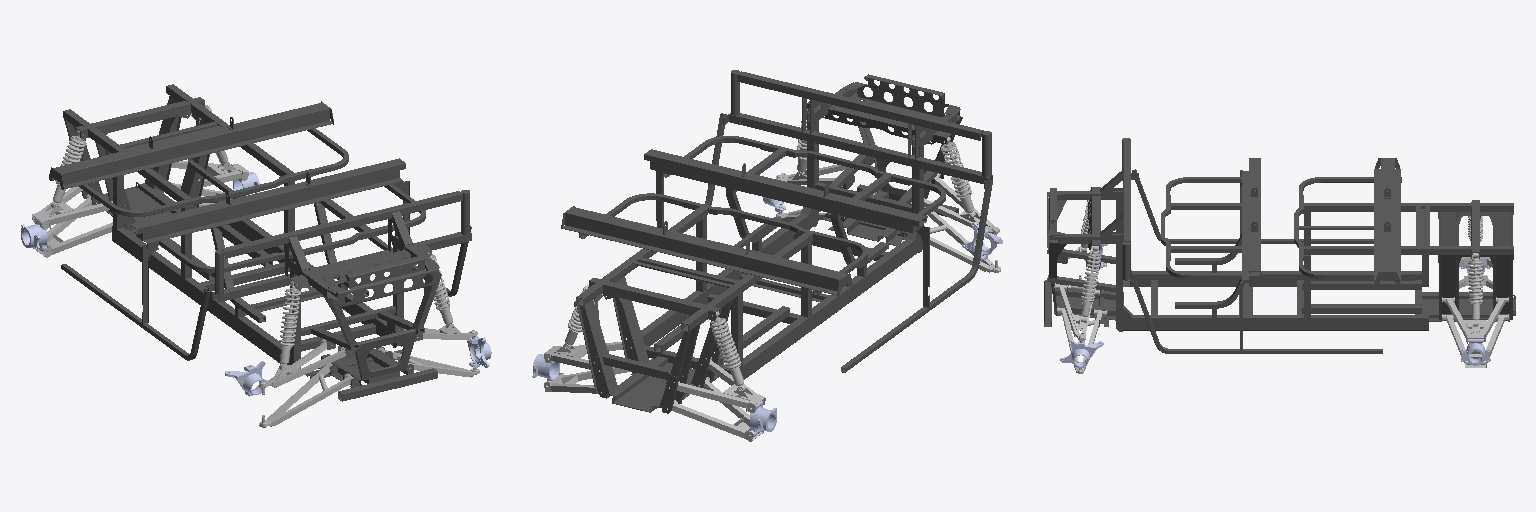
--- Render facts (derived) ---
The picture shows the robot from 3 angles, left to right: view 1: azimuth 30°, elevation 25°; view 2: azimuth 150°, elevation 25°; view 3: azimuth 270°, elevation 25°; orthographic projection.
Robot: panter — 21 links, 20 joints (20 revolute); root link CH; default pose: every joint at zero.
Links seen in each view (by area): view 1: CH, SD03_DCH, SD02_DCH, ST02_DCH, ST03_DCH, SD01_DCH, ST02_IZQ, SD03_IZQ, MGD_DCH, ST01_DCH, MGT_DCH, MGD_IZQ (+2 smaller); view 2: CH, ST02_DCH, ST03_DCH, ST01_DCH, SD03_DCH, ST02_IZQ, ST03_IZQ, SD01_DCH, SD02_DCH, MGT_DCH, SD02_IZQ; view 3: CH, ST02_IZQ, ST01_IZQ, SD01_IZQ, ST03_IZQ, SD02_IZQ, MGD_IZQ, SD03_IZQ.
Boxes of the visible links, <box> form: CH: <box>49,84,471,401</box>; SD03_DCH: <box>259,363,355,427</box>; SD02_DCH: <box>259,339,351,394</box>; ST02_DCH: <box>32,182,125,229</box>; ST03_DCH: <box>33,194,128,257</box>; SD01_DCH: <box>279,281,300,369</box>; ST02_IZQ: <box>163,161,248,188</box>; SD03_IZQ: <box>378,347,479,377</box>; MGD_DCH: <box>225,361,268,396</box>; ST01_DCH: <box>51,130,86,208</box>; MGT_DCH: <box>21,218,47,252</box>; MGD_IZQ: <box>467,336,491,367</box>; CH: <box>561,70,992,413</box>; ST02_DCH: <box>669,357,765,412</box>; ST03_DCH: <box>667,377,763,441</box>; ST01_DCH: <box>710,311,745,391</box>; SD03_DCH: <box>924,207,1000,272</box>; ST02_IZQ: <box>544,342,631,371</box>; ST03_IZQ: <box>544,367,630,393</box>; SD01_DCH: <box>941,137,975,217</box>; SD02_DCH: <box>911,173,999,235</box>; MGT_DCH: <box>749,401,776,436</box>; SD02_IZQ: <box>776,165,846,186</box>; CH: <box>1044,138,1515,353</box>; ST02_IZQ: <box>1442,297,1508,343</box>; ST01_IZQ: <box>1468,253,1482,326</box>; SD01_IZQ: <box>1081,246,1101,322</box>; ST03_IZQ: <box>1442,314,1508,367</box>; SD02_IZQ: <box>1054,283,1099,342</box>; MGD_IZQ: <box>1060,340,1103,367</box>; SD03_IZQ: <box>1057,307,1106,373</box>.
Bounding box of the posed robot: 1.5 × 2.62 × 0.8512 m (x, y, z).
17 mesh visuals loaded from 21 distinct referenced files (17 binary STL); not drawn: 4 (reference not matched to a file when rendering).

URDF robot description (panter):
<?xml version="1.0" encoding="utf-8"?>

<robot name="panter">

<!-- <robot xmlns:xacro="http://www.ros.org/wiki/xacro" name="panter"> -->

<!-- CHASIS -->

  <link name="CH">
    <inertial>
      <!-- <origin
        xyz="0 -0.44 0.675"
        rpy="0 0 0" /> -->
      <origin
        xyz="0.039 -0.49763 0.675"
        rpy="0 0 0" />
      <mass
        value="700.85" />
      <inertia
        ixx="431.0183"
        ixy="0"
        ixz="0"
        iyy="161.5181"
        iyz="0"
        izz="532.3189" />
    </inertial>
    <visual>
      <origin
        xyz="0 0 0"
        rpy="0 0 0" />
      <geometry>
        <mesh
          filename="package://description_pkg/meshes/CH.STL" />
      </geometry>
      <material
        name="Chasis">
        <color
          rgba="0.4 0.4 0.4 1" />
      </material>
    </visual>
    <collision>
      <origin
        xyz="0 -0.44 0.675"
        rpy="0 0 0" />
      <geometry>
        <box size="1.5 2.62 0.718"/>
      </geometry>
    </collision>
  </link>

<!--        #### EJE DELANTERO IZQUIERDA ####        -->

<!-- AMORTIGUADOR DELANTERO IZQUIERDO -->

  <link name="SD01_IZQ">
    <inertial>
      <origin
        xyz="0.023095387698854 0.0466016681758654 -0.187519014527032"
        rpy="-1.3265 -0.1571 0" />
      <mass
        value="3.75" />
      <inertia
        ixx="0.0513"
        ixy="0"
        ixz="0"
        iyy="0.0016"
        iyz="0"
        izz="0.0513" />
    </inertial>
    <visual>
      <origin
        xyz="0 0 0"
        rpy="0 0 0" />
      <geometry>
        <mesh
          filename="package://description_pkg/meshes/SD01_IZQ.STL" />
      </geometry>
      <material
        name="">
        <color
          rgba="0.752941176470588 0.752941176470588 0.752941176470588 1" />
      </material>
    </visual>
    <!-- <collision>
      <origin
        xyz="0 0 0"
        rpy="0 0 0" />
      <geometry>
        <mesh
          filename="package://description_pkg/meshes/SD01_IZQ.STL" />
      </geometry>
    </collision> -->
  </link>

  <joint  name="SD01_IZQ_CH_joint" type="revolute">
    <origin
      xyz="0.364 -1.4598 0.85354"
      rpy="0 0 -1.5708" />
    <parent
      link="CH" />
    <child
      link="SD01_IZQ" />
    <axis
      xyz="1 0 0" />
    <limit
      lower="0"
      upper="0"
      effort="0"
      velocity="0" />
  </joint>

<!-- BRAZO SUPERIOR DELANTERO IZQUIERDO -->

  <link name="SD02_IZQ">
    <inertial>
      <origin
        xyz="-0.109382785064343 0.00538487709498259 -0.0166938186536861"
        rpy="0 0.3142 1.6930" />
      <mass
        value="2.75" />
      <inertia
        ixx="0.0045"
        ixy="0"
        ixz="0"
        iyy="0.0591"
        iyz="0"
        izz="0.0625" />
    </inertial>
    <visual>
      <origin
        xyz="0 0 0"
        rpy="0 0 0" />
      <geometry>
        <mesh
          filename="package://description_pkg/meshes/SD02_IZQ.STL" />
      </geometry>
      <material
        name="">
        <color
          rgba="0.752941176470588 0.752941176470588 0.752941176470588 1" />
      </material>
    </visual>
    <!-- <collision>
      <origin
        xyz="0 0 0"
        rpy="0 0 0" />
      <geometry>
        <mesh
          filename="package://description_pkg/meshes/SD02_IZQ.STL" />
      </geometry>
    </collision> -->
  </link>

  <joint name="SD02_IZQ_CH_joint" type="revolute">
    <origin
      xyz="0.1865 -1.6482 0.53091"
      rpy="0 0 -1.5708" />
    <parent
      link="CH" />
    <child
      link="SD02_IZQ" />
    <axis
      xyz="1 0 0" />
    <limit effort="1.0" velocity="5.0" lower="-0.02" upper="0.02"/>
  </joint>

<!-- BRAZO INFERIOR DELANTERO IZQUIERDO -->

  <link name="SD03_IZQ">
    <inertial>
      <origin
        xyz="-0.0973675515390373 0.158067753699 -0.0696606835141533"
        rpy="0 0.4363 1.6930" />
      <mass
        value="2.55" />
      <inertia
        ixx="0.0064"
        ixy="0"
        ixz="0"
        iyy="0.0574"
        iyz="0"
        izz="0.0630" />
    </inertial>
    <visual>
      <origin
        xyz="0 0 0"
        rpy="0 0 0" />
      <geometry>
        <mesh
          filename="package://description_pkg/meshes/SD03_IZQ.STL" />
      </geometry>
      <material
        name="">
        <color
          rgba="0.752941176470588 0.752941176470588 0.752941176470588 1" />
      </material>
    </visual>
    <collision>
      <origin
        xyz="0 0 0"
        rpy="0 0 0" />
      <geometry>
        <mesh
          filename="package://description_pkg/meshes/SD03_IZQ.STL" />
      </geometry>
    </collision>
  </link>

  <joint name="SD03_IZQ_CH_joint" type="revolute">
    <origin
      xyz="0.151 -1.6306 0.37054"
      rpy="0 0 -1.5708" />
    <parent
      link="CH" />
    <child
      link="SD03_IZQ" />
    <axis
      xyz="0.99756 0 0.069756" />
    <limit effort="1.0" velocity="5.0" lower="-0" upper="0"/>
  </joint>

<!-- MANGUETA DELANTERA IZQUIERDA -->

  <link name="MGD_IZQ">
    <inertial>
      <origin
        xyz="-0.0855932268768944 0.00173893668665892 -0.0563643457848181"
        rpy="0 0 0" />
      <mass
        value="0.657785044151253" />
      <inertia
        ixx="0.00160628936815674"
        ixy="-6.87964117180997E-06"
        ixz="-2.77497675092375E-05"
        iyy="0.000818666431242726"
        iyz="-0.000112075156886058"
        izz="0.00115594236415573" />
    </inertial>
    <visual>
      <origin
        xyz="0 0 0"
        rpy="0 0 0" />
      <geometry>
        <mesh
          filename="package://description_pkg/meshes/MGD_IZQ.STL" />
      </geometry>
      <material
        name="">
        <color
          rgba="0.792156862745098 0.819607843137255 0.933333333333333 1" />
      </material>
    </visual>
    <!-- <collision>
      <origin
        xyz="0 0 0"
        rpy="0 0 0" />
      <geometry>
        <mesh
          filename="package://description_pkg/meshes/MGD_IZQ.STL" />
      </geometry>
    </collision> -->
  </link>

  <joint name="MGD_IZQ_joint" type="revolute">
    <origin
      xyz="-0.1154 0.39602 -0.15378"
      rpy="0 0 1.5708" />
    <parent
      link="SD02_IZQ" />
    <child
      link="MGD_IZQ" />
    <axis
      xyz="0 0 1" />
    <limit effort="50.0" velocity="1.0" lower="-0.5236" upper="0.5236"/>
    <!-- <dynamics damping="100.0" friction="50.0"/> -->
  </joint>

<!-- RUEDA DELANTERA IZQUIERDA -->

  <link name="ED_IZQ">
    <inertial>
      <origin
        xyz="8.85917361692634E-09 0.0150314381656788 0.00122958365489734"
        rpy="0 0 0" />
      <mass
        value="20.75" />
      <inertia
        ixx="0.7018"
        ixy="0"
        ixz="0"
        iyy="1.2206"
        iyz="0"
        izz="0.7018" />
    </inertial>
    <visual>
      <origin
        xyz="0 0 0"
        rpy="1.5708 0 0" />
      <geometry>
        <mesh
          filename="package://description_pkg/meshes/ED_IZQ.STL" />
      </geometry>
      <material
        name="Rueda">
        <color
          rgba="0.1 0.1 0.1 1" />
      </material>
    </visual>
    <collision>
      <origin
        xyz="0 0.0075 0"
        rpy="0 1.5707 1.5707" />
      <geometry>
        <cylinder radius="0.343" length="0.23"/>
      </geometry>
      <surface>
        <friction>
          <ode>
            <mu>5.0</mu>
            <mu2>5.0</mu2>
          </ode>
        </friction>
      </surface>
    </collision>
    <!-- <collision>
      <origin
        xyz="0 0 0"
        rpy="1.5708 0 0" />
      <geometry>
        <mesh
          filename="package://description_pkg/meshes/ED_IZQ.STL" />
      </geometry>
    </collision> -->
  </link>

  <joint name="ED_IZQ_joint" type="revolute">
    <origin
      xyz="0.12485 -0.0032345 -0.085073"
      rpy="0 0 -1.5708" />
    <parent
      link="MGD_IZQ" />
    <child
      link="ED_IZQ" />
    <axis
      xyz="0 1 0" />
    <limit effort="500.0" velocity="15.0" lower="-9999" upper="9999"/> <!-- esfuerzo máximo y velocidad angular -->
    <dynamics damping="2.5" friction="1.5"/> <!-- retardo y frenado natural -->
  </joint>

  <gazebo reference="ED_IZQ">
    <mu1>1.5</mu1>
    <mu2>1.5</mu2>
    <surface>
      <friction>
        <ode>
          <mu>1.5</mu>
          <mu2>1.5</mu2>
          <slip1>0.1</slip1>
          <slip2>0.1</slip2>
        </ode>
      </friction>
    </surface>
  </gazebo>

  <gazebo reference="ED_IZQ_joint">
    <sensor name="force_torque_sensor" type="force_torque">
      <always_on>true</always_on>
      <update_rate>100</update_rate>
      <visualize>true</visualize>
      <topic>/model/panter/ED_IZQ_joint/sensor/force_torque_sensor/force_torque</topic>
      <enable_metrics>true</enable_metrics>
      <pose>0 0 0 0 0 0</pose>
      <force_torque>
        <frame>sensor</frame>
        <measure_direction>child_to_parent</measure_direction>
      </force_torque> 
    </sensor>
  </gazebo>

<!--        #### EJE DELANTERO DERECHA ####        -->

<!-- AMORTIGUADOR DELANTERO DERECHO -->

  <link name="SD01_DCH">
    <inertial>
      <origin
        xyz="0.0230960940307681 -0.0466016638376696 -0.18751886137021"
        rpy="1.3265 -0.1571 0" />
      <mass
        value="3.75" />
      <inertia
        ixx="0.0513"
        ixy="0"
        ixz="0"
        iyy="0.0016"
        iyz="0"
        izz="0.0513" />
    </inertial>
    <visual>
      <origin
        xyz="0 0 0"
        rpy="0 0 0" />
      <geometry>
        <mesh
          filename="package://description_pkg/meshes/SD01_DCH.STL" />
      </geometry>
      <material
        name="">
        <color
          rgba="0.752941176470588 0.752941176470588 0.752941176470588 1" />
      </material>
    </visual>
    <!-- <collision>
      <origin
        xyz="0 0 0"
        rpy="0 0 0" />
      <geometry>
        <mesh
          filename="package://description_pkg/meshes/SD01_DCH.STL" />
      </geometry>
    </collision> -->
  </link>

  <joint name="SD01_DCH_CH_joint" type="revolute">
    <origin
      xyz="-0.364 -1.4598 0.85354"
      rpy="0 0 -1.5708" />
    <parent
      link="CH" />
    <child
      link="SD01_DCH" />
    <axis
      xyz="1 0 0" />
    <limit
      lower="0"
      upper="0"
      effort="0"
      velocity="0" />
  </joint>

<!-- BRAZO SUPERIOR DELANTERO DERECHO         -->

  <link name="SD02_DCH">
    <inertial>
      <origin
        xyz="-0.100708620572387 -0.17880788771794 -0.0713964837824563"
        rpy="0 -0.3142 1.6930" />
      <mass
        value="2.75" />
      <inertia
        ixx="0.0045"
        ixy="0"
        ixz="0"
        iyy="0.0591"
        iyz="0"
        izz="0.0625" />
    </inertial>
    <visual>
      <origin
        xyz="0 0 0"
        rpy="0 0 0" />
      <geometry>
        <mesh
          filename="package://description_pkg/meshes/SD02_DCH.STL" />
      </geometry>
      <material
        name="">
        <color
          rgba="0.752941176470588 0.752941176470588 0.752941176470588 1" />
      </material>
    </visual>
    <!-- <collision>
      <origin
        xyz="0 0 0"
        rpy="0 0 0" />
      <geometry>
        <mesh
          filename="package://description_pkg/meshes/SD02_DCH.STL" />
      </geometry>
    </collision> -->
  </link>

  <joint name="SD02_DCH_CH_joint" type="revolute">
    <origin
      xyz="-0.1865 -1.6482 0.53091"
      rpy="0 0 -1.5708" />
    <parent
      link="CH" />
    <child
      link="SD02_DCH" />
    <axis
      xyz="1 0 0" />
    <limit effort="1.0" velocity="5.0" lower="-0.02" upper="0.02"/>
  </joint>

<!-- BRAZO INFERIOR DELANTERO DERECHO -->

  <link name="SD03_DCH">
    <inertial>
      <origin
        xyz="-0.0979518480958868 -0.169078003137017 -0.0764949350807603"
        rpy="0 -0.4363 1.6930" />
      <mass
        value="2.55" />
      <inertia
        ixx="0.0064"
        ixy="-0"
        ixz="0"
        iyy="0.0574"
        iyz="0.0"
        izz="0.0630" />
    </inertial>
    <visual>
      <origin
        xyz="0 0 0"
        rpy="0 0 0" />
      <geometry>
        <mesh
          filename="package://description_pkg/meshes/SD03_DCH.STL" />
      </geometry>
      <material
        name="">
        <color
          rgba="0.752941176470588 0.752941176470588 0.752941176470588 1" />
      </material>
    </visual>
    <collision>
      <origin
        xyz="0 0 0"
        rpy="0 0 0" />
      <geometry>
        <mesh
          filename="package://description_pkg/meshes/SD03_DCH.STL" />
      </geometry>
    </collision>
  </link>
  
  <joint name="SD03_DCH_CH_joint" type="revolute">
    <origin
      xyz="-0.151 -1.6306 0.37054"
      rpy="0 0 -1.5708" />
    <parent
      link="CH" />
    <child
      link="SD03_DCH" />
    <axis
      xyz="0.99756 0 0.069756" />
    <limit
      lower="0"
      upper="0"
      effort="0"
      velocity="0" />
  </joint>

<!-- MANGUETA DELANTERA DERECHA -->

  <link name="MGD_DCH">
    <inertial>
      <origin
        xyz="-0.0215058691998961 0.00220187613752731 -0.0514181988629917"
        rpy="0 0 0" />
      <mass
        value="0.32878873728313" />
      <inertia
        ixx="0.000807927106157257"
        ixy="1.5159094149856E-05"
        ixz="-2.30270459407509E-05"
        iyy="0.000408973719348148"
        iyz="-5.49889480653895E-05"
        izz="0.00057221553445741" />
    </inertial>
    <visual>
      <origin
        xyz="0 0 0"
        rpy="0 0 0" />
      <geometry>
        <mesh
          filename="package://description_pkg/meshes/MGD_DCH.STL" />
      </geometry>
      <material
        name="">
        <color
          rgba="0.792156862745098 0.819607843137255 0.933333333333333 1" />
      </material>
    </visual>
    <!-- <collision>
      <origin
        xyz="0 0 0"
        rpy="0 0 0" />
      <geometry>
        <mesh
          filename="package://description_pkg/meshes/MGD_DCH.STL" />
      </geometry>
    </collision> -->
  </link>

  <joint name="MGD_DCH_joint" type="revolute">
    <origin
      xyz="-0.11478 -0.3967 -0.16813"
      rpy="0 0 1.5708" />
    <parent
      link="SD02_DCH" />
    <child
      link="MGD_DCH" />
    <axis
      xyz="0 0 1" />
      <limit effort="50" velocity="1.0" lower="-0.5236" upper="0.5236"/>
      <!-- <dynamics damping="100.0" friction="50.0"/> -->
  </joint>

<!-- RUEDA DELANTERA DERECHA -->

  <link name="ED_DCH">
    <inertial>
      <origin
        xyz="2.51975995624321E-10 -0.0151916399599397 0.00147256651074923"
        rpy="0 0 0" />
      <mass
        value="20.75" />
      <inertia
        ixx="0.7018"
        ixy="0"
        ixz="0"
        iyy="1.2206"
        iyz="0"
        izz="0.7018" />
    </inertial>
    <visual>
      <origin
        xyz="0 0 0"
        rpy="1.5708 0 3.1416" />
      <geometry>
        <mesh
          filename="package://description_pkg/meshes/ED_DCH.STL" />
      </geometry>
      <material
        name="Rueda">
        <color
          rgba="0.1 0.1 0.1 1" />
      </material>
    </visual>
    <collision>
      <origin
        xyz="0 -0.0065 0"
        rpy="0 1.5707 1.5707" />
      <geometry>
        <cylinder radius="0.343" length="0.23"/>
      </geometry>
        <surface>
        <friction>
          <ode>
            <mu>5.0</mu>
            <mu2>5.0</mu2>
          </ode>
        </friction>
      </surface>
    </collision>
    <!-- <collision>
      <origin
        xyz="0 0 0"
        rpy="1.5708 0 3.1416" />
      <geometry>
        <mesh
          filename="package://description_pkg/meshes/ED_DCH.STL" />
      </geometry>
    </collision> -->
  </link>

  <joint name="ED_DCH_joint" type="revolute">
    <origin
      xyz="-0.12298 -0.0027949 -0.074613"
      rpy="0 0 -1.5708" />
    <parent
      link="MGD_DCH" />
    <child
      link="ED_DCH" />
    <axis
      xyz="0 1 0" />
    <limit effort="500.0" velocity="15.0" lower="-9999" upper="9999"/> <!-- esfuerzo máximo y velocidad angular -->
    <dynamics damping="2.5" friction="1.5"/> <!-- retardo y frenado natural -->
  </joint>

  <gazebo reference="ED_DCH_joint">
    <sensor name="force_torque_sensor" type="force_torque">
      <always_on>true</always_on>
      <update_rate>100</update_rate>
      <visualize>true</visualize>
      <topic>/model/panter/ED_DCH_joint/sensor/force_torque_sensor/force_torque</topic>
      <enable_metrics>true</enable_metrics>
      <pose>0 0 0 0 0 0</pose>
      <force_torque>
        <frame>sensor</frame>
        <measure_direction>child_to_parent</measure_direction>
      </force_torque> 
    </sensor>
  </gazebo>

  <gazebo reference="ED_DCH">
    <mu1>1.5</mu1>
    <mu2>1.5</mu2>
    <surface>
      <friction>
        <ode>
          <mu>1.5</mu>
          <mu2>1.5</mu2>
          <slip1>0.1</slip1>
          <slip2>0.1</slip2>
        </ode>
      </friction>
    </surface>
  </gazebo>

<!--        #### EJE TRASERO IZQUIERDA ####        -->

<!-- AMORTIGUADOR TRASERO IZQUIERDO -->

  <link name="ST01_IZQ">
    <inertial>
      <origin
        xyz="0.00849916904570347 0.0657819927229274 -0.159438279696501"
        rpy="-1.1868 0 0" />
      <mass
        value="5.35" />
      <inertia
        ixx="0.0844"
        ixy="0"
        ixz="0"
        iyy="0.0038"
        iyz="0"
        izz="0.0844" />
    </inertial>
    <visual>
      <origin
        xyz="0 0 0"
        rpy="0 0 0" />
      <geometry>
        <mesh
          filename="package://description_pkg/meshes/ST01_IZQ.STL" />
      </geometry>
      <material
        name="">
        <color
          rgba="0.752941176470588 0.752941176470588 0.752941176470588 1" />
      </material>
    </visual>
    <!-- <collision>
      <origin
        xyz="0 0 0"
        rpy="0 0 0" />
      <geometry>
        <mesh
          filename="package://description_pkg/meshes/ST01_IZQ.STL" />
      </geometry>
    </collision> -->
  </link>

  <joint name="ST01_IZQ_CH_joint" type="revolute">
    <origin
      xyz="0.3275 0.66468 0.79122"
      rpy="0 0 -1.5708" />
    <parent
      link="CH" />
    <child
      link="ST01_IZQ" />
    <axis
      xyz="1 0 0" />
    <limit
      lower="0"
      upper="0"
      effort="0"
      velocity="0" />
  </joint>

<!-- BRAZO SUPERIOR TRASERO IZQUIERDO -->

  <link name="ST02_IZQ">
    <inertial>
      <origin
        xyz="0.15000000516741 0.174879151139807 -0.0332493411123895"
        rpy="0 0 0" />
      <mass
        value="0.816782909187791" />
      <inertia
        ixx="0.00805847541687784"
        ixy="9.94042643498971E-10"
        ixz="4.39327268225593E-09"
        iyy="0.00136969060130576"
        iyz="0.00150446688083674"
        izz="0.00869514722257204" />
    </inertial>
    <visual>
      <origin
        xyz="0 0 0"
        rpy="0 0 0" />
      <geometry>
        <mesh
          filename="package://description_pkg/meshes/ST02_IZQ.STL" />
      </geometry>
      <material
        name="">
        <color
          rgba="0.752941176470588 0.752941176470588 0.752941176470588 1" />
      </material>
    </visual>
    <!-- <collision>
      <origin
        xyz="0 0 0"
        rpy="0 0 0" />
      <geometry>
        <mesh
          filename="package://description_pkg/meshes/ST02_IZQ.STL" />
      </geometry>
    </collision> -->
  </link>

  <joint name="ST02_IZQ_CH_joint" type="revolute">
    <origin
      xyz="0.19 0.80618 0.45222"
      rpy="0 0 -1.5708" />
    <parent
      link="CH" />
    <child
      link="ST02_IZQ" />
    <axis
      xyz="1 0 0" />
    <limit effort="1.0" velocity="5.0" lower="-0.02" upper="0.02"/>
  </joint>

<!-- BRAZO INFERIOR TRASERO IZQUIERDO -->

  <link name="ST03_IZQ">
    <inertial>
      <origin
        xyz="0.149999999999999 0.164533605888154 -0.052514843928228"
        rpy="0 0 0" />
      <mass
        value="0.341061626894356" />
      <inertia
        ixx="0.00227935928137916"
        ixy="9.69569035077001E-18"
        ixz="-2.27272975841754E-18"
        iyy="0.000532010440822696"
        iyz="0.000627611706470002"
        izz="0.00233995796668448" />
    </inertial>
    <visual>
      <origin
        xyz="0 0 0"
        rpy="0 0 0" />
      <geometry>
        <mesh
          filename="package://description_pkg/meshes/ST03_IZQ.STL" />
      </geometry>
      <material
        name="">
        <color
          rgba="0.752941176470588 0.752941176470588 0.752941176470588 1" />
      </material>
    </visual>
    <collision>
      <origin
        xyz="0 0 0"
        rpy="0 0 0" />
      <geometry>
        <mesh
          filename="package://description_pkg/meshes/ST03_IZQ.STL" />
      </geometry>
    </collision>
  </link>

  <joint name="ST03_IZQ_CH_joint" type="revolute">
    <origin
      xyz="0.178 0.80618 0.34222"
      rpy="0 0 -1.5708" />
    <parent
      link="CH" />
    <child
      link="ST03_IZQ" />
    <axis
      xyz="1 0 0" />
    <limit
      lower="0"
      upper="0"
      effort="0"
      velocity="0" />
  </joint>

<!-- MANGUETA TRASERA IZQUIERDA -->

  <link name="MGT_IZQ">
    <inertial>
      <origin
        xyz="0.0699881063110813 -0.0306022880154644 5.74031709610345E-07"
        rpy="0 0 0" />
      <mass
        value="0.451405474193011" />
      <inertia
        ixx="0.000884120311608252"
        ixy="-3.27280002046394E-05"
        ixz="-4.17903307141819E-06"
        iyy="0.00152701411958253"
        iyz="3.77556476076856E-10"
        izz="0.00126994685390395" />
    </inertial>
    <visual>
      <origin
        xyz="0 0 0"
        rpy="0 0 0" />
      <geometry>
        <mesh
          filename="package://description_pkg/meshes/MGT_IZQ.STL" />
      </geometry>
      <material
        name="">
        <color
          rgba="0.792156862745098 0.819607843137255 0.933333333333333 1" />
      </material>
    </visual>
    <!-- <collision>
      <origin
        xyz="0 0 0"
        rpy="0 0 0" />
      <geometry>
        <mesh
          filename="package://description_pkg/meshes/MGT_IZQ.STL" />
      </geometry>
    </collision> -->
  </link>

  <joint name="MGT_IZQ_joint" type="revolute">
    <origin
      xyz="0.15 0.35805 -0.078868"
      rpy="-1.5708 1.5606 1.5708" />
    <parent
      link="ST02_IZQ" />
    <child
      link="MGT_IZQ" />
    <axis
      xyz="0 0 1" />
    <limit
      lower="0"
      upper="0"
      effort="0"
      velocity="0" />
  </joint>

<!-- RUEDA TRASERA IZQUIERDA -->

  <link name="ET_IZQ">
    <inertial>
      <origin
        xyz="-0.000706788941648773 -0.03023682627460875 -6.33735726794371E-05"
        rpy="0 0 0" />
      <mass
        value="25.2" />
      <inertia
        ixx="0.9047"
        ixy="0"
        ixz="0"
        iyy="1.4824"
        iyz="0"
        izz="0.9047" />
    </inertial>
    <visual>
      <origin
        xyz="0 0 0"
        rpy="0 0 0" />
      <geometry>
        <mesh
          filename="package://description_pkg/meshes/ET_IZQ.STL" />
      </geometry>
      <material
        name="Rueda">
        <color
          rgba="0.1 0.1 0.1 1" />
      </material>
    </visual>
    <collision>
      <origin
        xyz="0 -0.038 0"
        rpy="0 1.5707 1.5707" />
      <geometry>
        <cylinder radius="0.343" length="0.285"/>
      </geometry>
      <surface>
        <friction>
          <ode>
            <mu>5.0</mu>
            <mu2>5.0</mu2>
          </ode>
        </friction>
      </surface>
    </collision>
    <!-- <collision>
      <origin
        xyz="0 0 0"
        rpy="0 0 0" />
      <geometry>
        <mesh
          filename="package://description_pkg/meshes/ET_IZQ.STL" />
      </geometry>
    </collision> -->
  </link>

  <joint name="ET_IZQ_joint" type="revolute">
    <origin
      xyz="0.067 -0.12575 0"
      rpy="3.1314 1.5708 0" />
    <parent
      link="MGT_IZQ" />
    <child
      link="ET_IZQ" />
    <axis
      xyz="0 1 0" />
    <limit effort="500.0" velocity="15.0" lower="-9999" upper="9999"/> <!-- esfuerzo máximo y velocidad angular -->
    <dynamics damping="2.5" friction="1.5"/> <!-- retardo y frenado natural -->
  </joint>

  <gazebo reference="ET_IZQ_joint">
    <sensor name="force_torque_sensor" type="force_torque">
      <always_on>true</always_on>
      <update_rate>100</update_rate>
      <visualize>true</visualize>
      <topic>/model/panter/ET_IZQ_joint/sensor/force_torque_sensor/force_torque</topic>
      <enable_metrics>true</enable_metrics>
      <pose>0 0 0 0 0 0</pose>
      <force_torque>
        <frame>sensor</frame>
        <measure_direction>child_to_parent</measure_direction>
      </force_torque> 
    </sensor>
  </gazebo>

  <gazebo reference="ET_IZQ">
    <mu1>1.5</mu1>
    <mu2>1.5</mu2>
    <surface>
      <friction>
        <ode>
          <mu>1.5</mu>
          <mu2>1.5</mu2>
          <slip1>0.1</slip1>
          <slip2>0.1</slip2>
        </ode>
      </friction>
    </surface>
  </gazebo>

<!--        #### EJE TRASERO DERECHA ####        -->

<!-- AMORTIGUADOR TRASERO DERECHO -->

  <link name="ST01_DCH">
    <inertial>
      <origin
        xyz="0.00850083095425092 -0.0657819927228879 -0.159438279696496"
        rpy="1.1868 0 0" />
      <mass
        value="5.35" />
      <inertia
        ixx="0.0844"
        ixy="0"
        ixz="0"
        iyy="0.0038"
        iyz="0"
        izz="0.0844" />
    </inertial>
    <visual>
      <origin
        xyz="0 0 0"
        rpy="0 0 0" />
      <geometry>
        <mesh
          filename="package://description_pkg/meshes/ST01_DCH.STL" />
      </geometry>
      <material
        name="">
        <color
          rgba="0.752941176470588 0.752941176470588 0.752941176470588 1" />
      </material>
    </visual>
    <!-- <collision>
      <origin
        xyz="0 0 0"
        rpy="0 0 0" />
      <geometry>
        <mesh
          filename="package://description_pkg/meshes/ST01_DCH.STL" />
      </geometry>
    </collision> -->
  </link>

  <joint name="ST01_DCH_CH_joint" type="revolute">
    <origin
      xyz="-0.3275 0.66468 0.79122"
      rpy="0 0 -1.5708" />
    <parent
      link="CH" />
    <child
      link="ST01_DCH" />
    <axis
      xyz="1 0 0" />
    <limit
      lower="0"
      upper="0"
      effort="0"
      velocity="0" />
  </joint>

<!-- BRAZO SUPERIOR TRASERO DERECHO -->

  <link name="ST02_DCH">
    <inertial>
      <origin
        xyz="0.149999994832589 -0.174879151139789 -0.0332493411124751"
        rpy="0 0 0" />
      <mass
        value="0.816782909187794" />
      <inertia
        ixx="0.00805847541687786"
        ixy="9.94042592047479E-10"
        ixz="-4.39327267299086E-09"
        iyy="0.00136969060130728"
        iyz="-0.00150446688084042"
        izz="0.00869514722257055" />
    </inertial>
    <visual>
      <origin
        xyz="0 0 0"
        rpy="0 0 0" />
      <geometry>
        <mesh
          filename="package://description_pkg/meshes/ST02_DCH.STL" />
      </geometry>
      <material
        name="">
        <color
          rgba="0.752941176470588 0.752941176470588 0.752941176470588 1" />
      </material>
    </visual>
    <!-- <collision>
      <origin
        xyz="0 0 0"
        rpy="0 0 0" />
      <geometry>
        <mesh
          filename="package://description_pkg/meshes/ST02_DCH.STL" />
      </geometry>
    </collision> -->
  </link>

  <joint name="ST02_DCH_CH_joint" type="revolute">
    <origin
      xyz="-0.19 0.80618 0.45222"
      rpy="0 0 -1.5708" />
    <parent
      link="CH" />
    <child
      link="ST02_DCH" />
    <axis
      xyz="1 0 0" />
    <limit effort="1.0" velocity="5.0" lower="-0.02" upper="0.02"/>
  </joint>

<!-- BRAZO INFERIOR TRASERO DERECHO -->

  <link name="ST03_DCH">
    <inertial>
      <origin
        xyz="0.150000000000001 -0.164533605888153 -0.0525148439282281"
        rpy="0 0 0" />
      <mass
        value="0.341061626894354" />
      <inertia
        ixx="0.00227935928137915"
        ixy="3.63563465144519E-18"
        ixz="2.24370904315262E-18"
        iyy="0.000532010440822695"
        iyz="-0.000627611706469999"
        izz="0.00233995796668448" />
    </inertial>
    <visual>
      <origin
        xyz="0 0 0"
        rpy="0 0 0" />
      <geometry>
        <mesh
          filename="package://description_pkg/meshes/ST03_DCH.STL" />
      </geometry>
      <material
        name="">
        <color
          rgba="0.752941176470588 0.752941176470588 0.752941176470588 1" />
      </material>
    </visual>
    <collision>
      <origin
        xyz="0 0 0"
        rpy="0 0 0" />
      <geometry>
        <mesh
          filename="package://description_pkg/meshes/ST03_DCH.STL" />
      </geometry>
    </collision>
  </link>

  <joint name="ST03_DCH_CH_joint" type="revolute">
    <origin
      xyz="-0.178 0.80618 0.34222"
      rpy="0 0 -1.5708" />
    <parent
      link="CH" />
    <child
      link="ST03_DCH" />
    <axis
      xyz="1 0 0" />
    <limit
      lower="0"
      upper="0"
      effort="0"
      velocity="0" />
  </joint>

<!-- MANGUETA TRASERA DERECHA -->

  <link name="MGT_DCH">
    <inertial>
      <origin
        xyz="0.0699879996489881 -0.0306022973969667 8.61290751941191E-07"
        rpy="0 0 0" />
      <mass
        value="0.451405474196267" />
      <inertia
        ixx="0.000884120347797621"
        ixy="-3.27280001957708E-05"
        ixz="-4.18070325172536E-06"
        iyy="0.00152701411958672"
        iyz="2.35896829516157E-10"
        izz="0.00126994681772039" />
    </inertial>
    <visual>
      <origin
        xyz="0 0 0"
        rpy="0 0 0" />
      <geometry>
        <mesh
          filename="package://description_pkg/meshes/MGT_DCH.STL" />
      </geometry>
      <material
        name="">
        <color
          rgba="0.792156862745098 0.819607843137255 0.933333333333333 1" />
      </material>
    </visual>
    <collision>
      <origin
        xyz="0 0 0"
        rpy="0 0 0" />
      <geometry>
        <mesh
          filename="package://description_pkg/meshes/MGT_DCH.STL" />
      </geometry>
    </collision>
  </link>

  <joint name="MGT_DCH_joint" type="revolute">
    <origin
      xyz="0.15 -0.35955 -0.078844"
      rpy="-1.5708 1.5606 -1.5708" />
    <parent
      link="ST02_DCH" />
    <child
      link="MGT_DCH" />
    <axis
      xyz="0 0 1" />
    <limit
      lower="0"
      upper="0"
      effort="0"
      velocity="0" />
  </joint>

<!-- RUEDA TRASERA DERECHA -->

  <link name="ET_DCH">
    <inertial>
      <origin
        xyz="-0.000709880589866541 0.0002195901253508 -0.000246078162161822"
        rpy="0 0 0" />
      <mass
        value="25.2" />
      <inertia
        ixx="0.9047"
        ixy="0"
        ixz="0"
        iyy="1.4824"
        iyz="0"
        izz="0.9047" />
    </inertial>
    <visual>
      <origin
        xyz="0 0 0"
        rpy="1.5708 0 3.1416" />
      <geometry>
        <mesh
          filename="package://description_pkg/meshes/ET_DCH.STL" />
      </geometry>
      <material
        name="Rueda">
        <color
          rgba="0.1 0.1 0.1 1" />
      </material>
    </visual>
    <collision>
      <origin
        xyz="0 -0.025 0"
        rpy="0 1.5707 1.5707" />
      <geometry>
        <cylinder radius="0.343" length="0.285"/>
      </geometry>
      <surface>
        <friction>
          <ode>
            <mu>5.0</mu>
            <mu2>5.0</mu2>
          </ode>
        </friction>
      </surface>
    </collision>
    <!-- <collision>
      <origin
        xyz="0 0 0"
        rpy="1.5708 0 3.1416" />
      <geometry>
        <mesh
          filename="package://description_pkg/meshes/ET_DCH.STL" />
      </geometry>
    </collision> -->
  </link>

  <joint name="ET_DCH_joint" type="revolute">
    <origin
      xyz="0.067 -0.15 0"
      rpy="0 -1.5708 0" />
      <!-- rpy="3.1314 -1.5708 0" /> -->
    <parent
      link="MGT_DCH" />
    <child
      link="ET_DCH" />
    <axis xyz="0 1 0">
      <dynamics damping="0.1" friction="0.1"/>
    </axis>
    <limit effort="500.0" velocity="15.0" lower="-9999" upper="9999"/> <!-- esfuerzo máximo y velocidad angular -->
    <dynamics damping="2.5" friction="1.5"/> <!-- retardo y frenado natural -->
  </joint>

  <gazebo reference="ET_DCH">
    <mu1>1.5</mu1>
    <mu2>1.5</mu2>
    <surface>
      <friction>
        <ode>
          <mu>1.5</mu>
          <mu2>1.5</mu2>
          <slip1>0.1</slip1>
          <slip2>0.1</slip2>
        </ode>
      </friction>
    </surface>
  </gazebo>

  <gazebo reference="ET_DCH_joint">
    <sensor name="force_torque_sensor" type="force_torque">
      <always_on>true</always_on>
      <update_rate>100</update_rate>
      <visualize>true</visualize>
      <topic>/model/panter/ET_DCH_joint/sensor/force_torque_sensor/force_torque</topic>
      <enable_metrics>true</enable_metrics>
      <pose>0 0 0 0 0 0</pose>
      <force_torque>
        <frame>sensor</frame>
        <measure_direction>child_to_parent</measure_direction>
      </force_torque> 
    </sensor>
  </gazebo>

<!-- ROS2 CONTROL -->

  <ros2_control name="GazeboSimSystem" type="system">

    <hardware>
      <plugin>gz_ros2_control/GazeboSimSystem</plugin>
      <!-- <plugin>gz_ros2_control/GazeboSystem</plugin> -->
    </hardware>

    <joint name="ED_DCH_joint">
      <command_interface name="effort"/>
      <state_interface name="position"/>
      <state_interface name="velocity"/>
    </joint>

    <joint name="ED_IZQ_joint">
      <command_interface name="effort"/>
      <state_interface name="position"/>
      <state_interface name="velocity"/>
    </joint>

    <joint name="ET_DCH_joint">
      <command_interface name="effort"/>
      <state_interface name="position"/>
      <state_interface name="velocity"/>
    </joint>

    <joint name="ET_IZQ_joint">
      <command_interface name="effort"/>
      <state_interface name="position"/>
      <state_interface name="velocity"/>
    </joint>

    <joint name="MGD_IZQ_joint">
      <command_interface name="position"/>
      <state_interface name="position"/>
      <state_interface name="velocity"/>
    </joint>

    <joint name="MGD_DCH_joint">
      <command_interface name="position"/>
      <state_interface name="position"/>
      <state_interface name="velocity"/>
    </joint>

  </ros2_control>

  <gazebo>
    <plugin filename="gz_ros2_control-system" name="gz_ros2_control::GazeboSimROS2ControlPlugin">
      <robot_param>robot_description</robot_param>
      <robot_param_node>robot_state_publisher</robot_param_node>
      <parameters>[local-path]/panter_ws/src/control_pkg/config/control_config.yaml</parameters>
    </plugin>
  </gazebo>

  <transmission name="front_right_wheel_trans">
    <type>transmission_interface/SimpleTransmission</type>
    <joint name="ED_DCH_joint">
      <hardwareInterface>hardware_interface/EffortJointInterface</hardwareInterface>
    </joint>
    <actuator name="front_right_wheel_motor">
      <mechanicalReduction>15</mechanicalReduction>
    </actuator>
  </transmission>

  <transmission name="front_left_wheel_trans">
    <type>transmission_interface/SimpleTransmission</type>
    <joint name="ED_IZQ_joint">
      <hardwareInterface>hardware_interface/EffortJointInterface</hardwareInterface>
    </joint>
    <actuator name="front_left_wheel_motor">
      <mechanicalReduction>15</mechanicalReduction>
    </actuator>
  </transmission>

  <transmission name="back_right_wheel_trans">
    <type>transmission_interface/SimpleTransmission</type>
    <joint name="ET_DCH_joint">
      <hardwareInterface>hardware_interface/EffortJointInterface</hardwareInterface>
    </joint>
    <actuator name="back_right_wheel_motor">
      <mechanicalReduction>15</mechanicalReduction>
    </actuator>
  </transmission>

  <transmission name="back_left_wheel_trans">
    <type>transmission_interface/SimpleTransmission</type>
    <joint name="ET_IZQ_joint">
      <hardwareInterface>hardware_interface/EffortJointInterface</hardwareInterface>
    </joint>
    <actuator name="back_left_wheel_motor">
      <mechanicalReduction>15</mechanicalReduction>
    </actuator>
  </transmission>

</robot>
